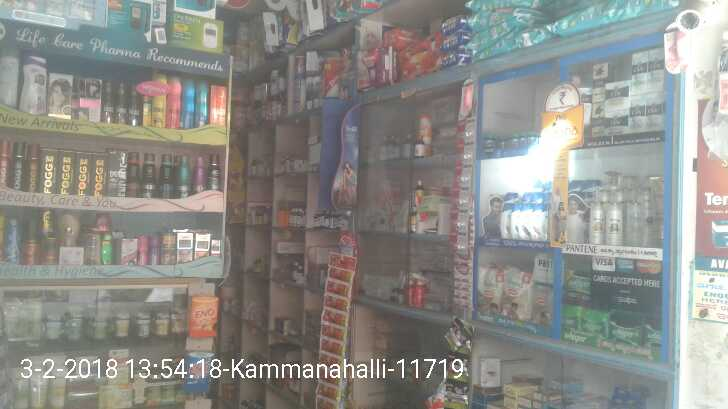beauty: (606, 203, 624, 247), (630, 50, 648, 93), (648, 48, 665, 92), (604, 105, 628, 136), (647, 92, 666, 131), (629, 95, 647, 135), (591, 203, 605, 249), (603, 83, 632, 105), (591, 63, 607, 101), (591, 101, 604, 137)
pharmacy: (564, 266, 596, 307), (609, 312, 644, 346), (582, 304, 609, 337), (644, 313, 662, 343), (562, 304, 583, 329), (482, 131, 494, 147)
